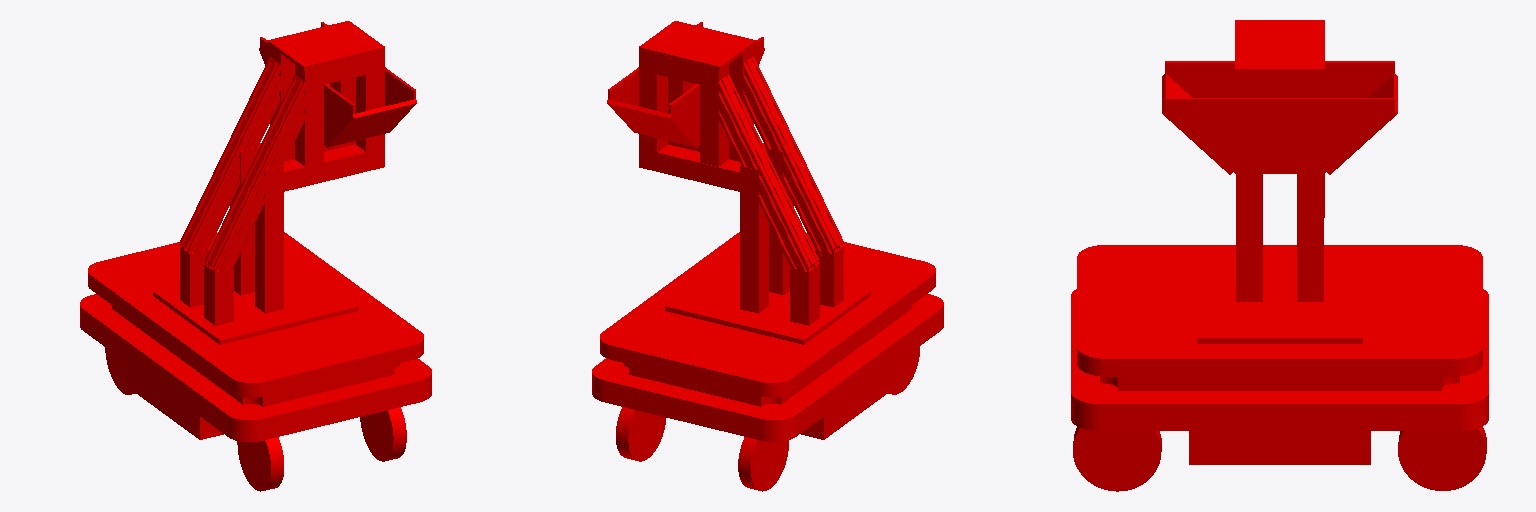
The robot description file, URDF, robot "fanuc_car":
<?xml version="1.0" encoding="utf-8"?>
<robot name="fanuc_car">
  <link name="base_link"/>
  <link name="move_x_link"/>
  <joint name="joint_1" type="fixed">
    <origin xyz="-0.234969 -0.493283 0.497258" rpy="0 0 0" />
    <parent link="base_link" />
    <child link="move_x_link" />
  </joint>
  <link name="move_y_link"/>
  <joint name="joint_2" type="fixed">
    <origin xyz="0 0 0" rpy="0 0 0" />
    <parent link="move_x_link" />
    <child link="move_y_link" />
  </joint>
  <link name="car_link">
    <visual>
      <origin xyz="0.234969 0.493283 -0.497258" rpy="0 0 0" />
      <geometry>
        <mesh filename="mesh/car.stl" scale="0.001 0.001 0.001" />
      </geometry>
      <material name=""><color rgba="1 0 0 1" /></material>
    </visual>
    <collision>
      <origin xyz="0.234969 0.493283 -0.497258" rpy="0 0 0" />
      <geometry>
        <mesh filename="mesh/car.stl" scale="0.001 0.001 0.001"/>
      </geometry>
    </collision>
  </link>
  <joint name="joint_3" type="fixed">
    <origin xyz="0 0 0" rpy="0 0 0" />
    <parent link="move_y_link" />
    <child link="car_link" />
  </joint>
  <link name="car_base">
    <visual>
      <geometry>
        <mesh filename="mesh/fanuc_base.stl" scale="0.001 0.001 0.001" />
      </geometry>
      <material name=""><color rgba="1 0 0 1" /></material>
    </visual>
    <collision>
      <geometry>
        <mesh filename="meshes/fanuc_base.stl" scale="0.001 0.001 0.001"/>
      </geometry>
    </collision>
  </link>
  <joint name="joint_4" type="fixed">
    <origin xyz="0 0 0" rpy="0 0 0" />
    <parent link="car_link" />
    <child link="car_base" />
  </joint>
</robot>

--- Facts derived from the render (not from the file) ---
The picture shows the robot from 3 angles, left to right: view 1: azimuth 30°, elevation 25°; view 2: azimuth 150°, elevation 25°; view 3: azimuth 270°, elevation 25°; orthographic projection.
Model fanuc_car with 5 links and 4 joints (4 fixed), rooted at base_link, posed every joint at zero.
Links seen in each view (by area): view 1: car_link, car_base; view 2: car_link, car_base; view 3: car_link, car_base.
Link boxes in pixels (left/top/right/bottom): car_link: left=80, top=232, right=431, bottom=491; car_base: left=153, top=21, right=416, bottom=344; car_link: left=592, top=232, right=943, bottom=491; car_base: left=607, top=21, right=870, bottom=344; car_link: left=1071, top=245, right=1488, bottom=491; car_base: left=1162, top=20, right=1397, bottom=343.
Size in the robot's own frame: 0.9232 by 1.27 by 1.5 metres.
2 mesh visuals loaded from 2 distinct referenced files (2 binary STL).
